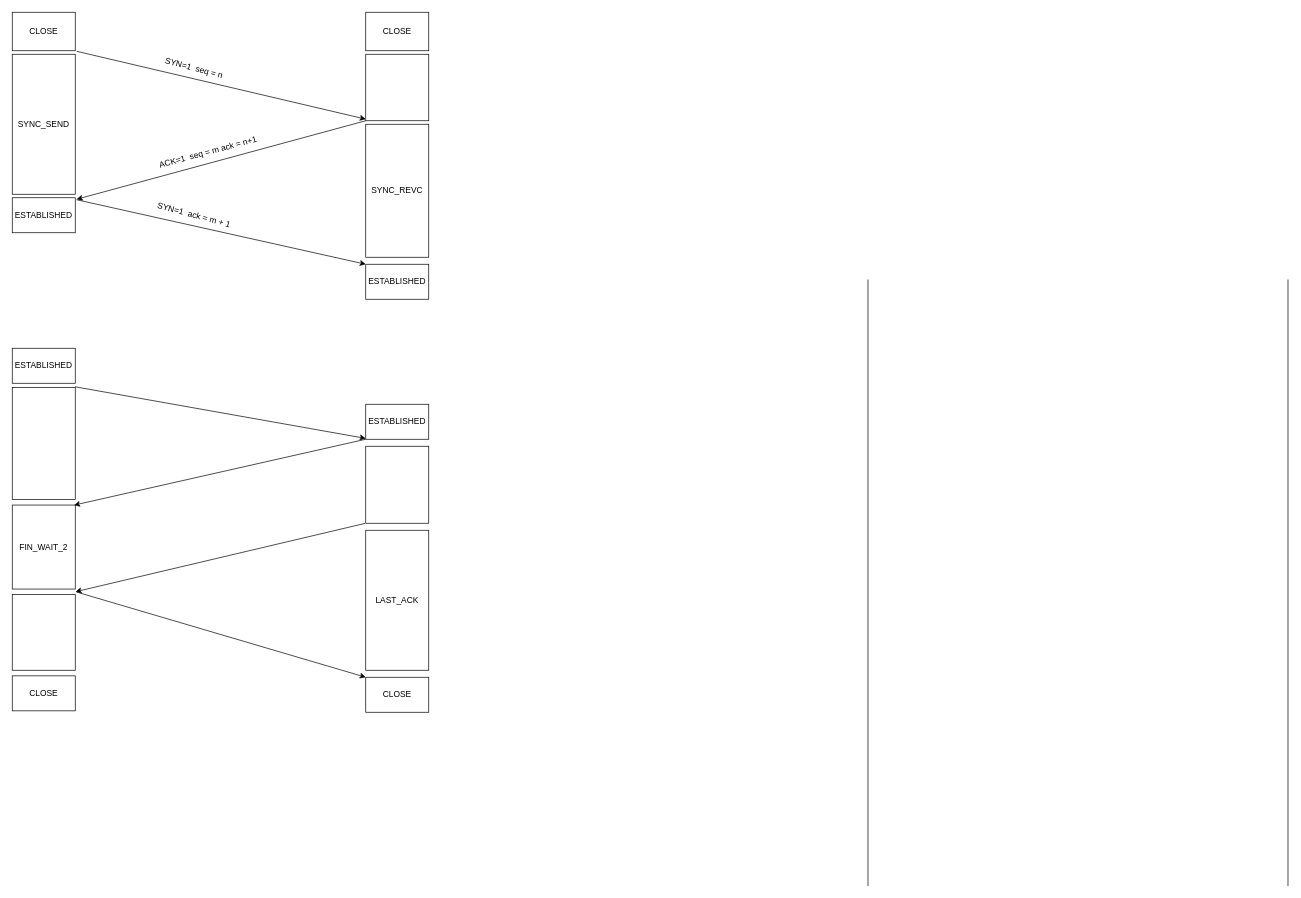
Image size: 1301x898. Some labels were removed from this diagram. Here are the shapes that lost their labels. From the top down, the centre of each, then its label:
At [397,87]: "LISTEN".
At [43,443]: "FIN_WAIT_1".
At [397,484]: "CLOSE_WAIT".
At [43,632]: "TIME_WAIT".
